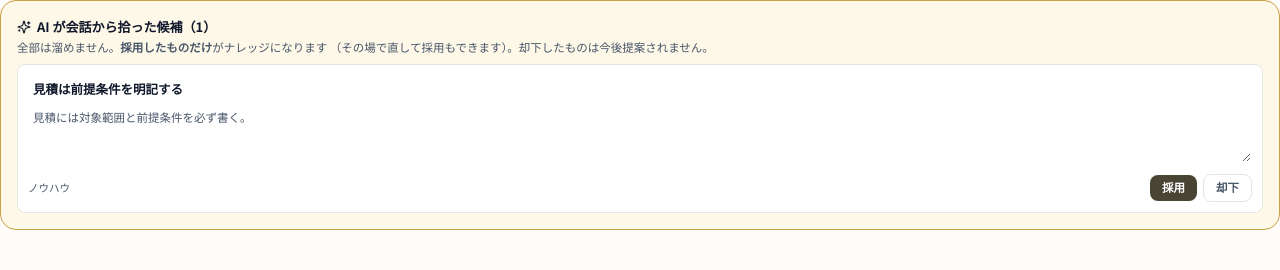
Test case: KnowledgeCandidates (GAP-167) › 却下すると reject API を叩き、再提案されない旨を伝える
Click the button "却下": (1228, 188) [1203,174,1252,202]
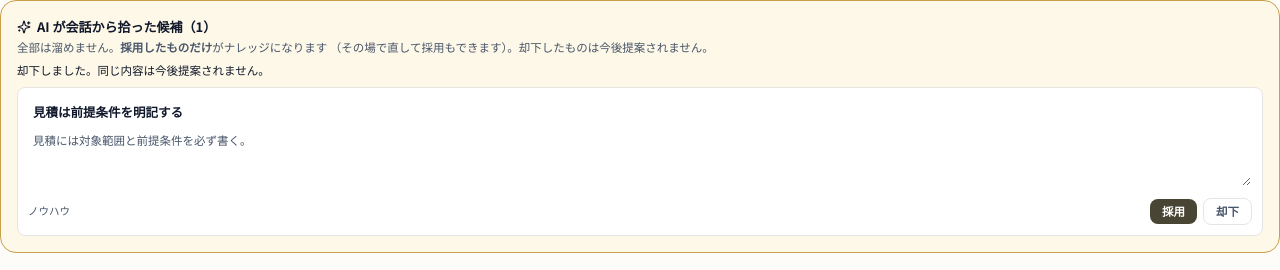
Expected: the message shows "今後提案されません", [17,62,270,78]
